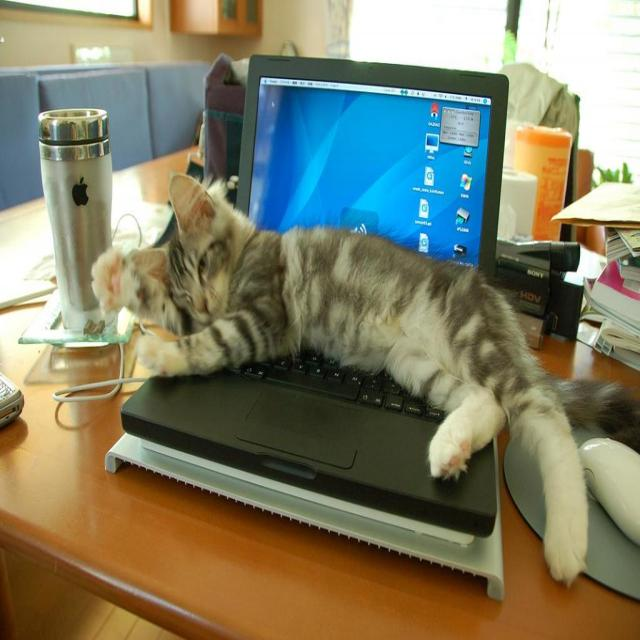desk: (2, 145, 637, 637)
laptop: (132, 96, 614, 516)
mouse: (578, 439, 640, 549)
